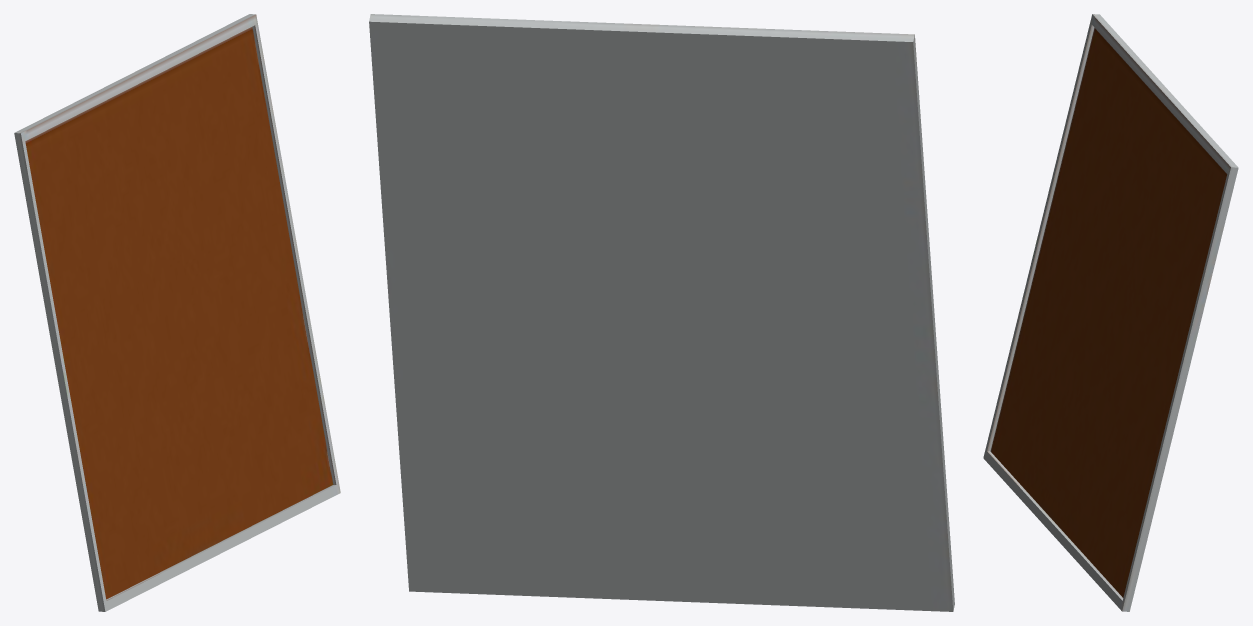
The model's file is board.fbx.
3 views of the same model, side by side, from view 1: azimuth 30°, elevation 25°; view 2: azimuth 150°, elevation 25°; view 3: azimuth 270°, elevation 25° (orthographic). The views are drawn at different scales.
Parts seen in each view (by area): view 1: defaultMaterial.014; view 2: defaultMaterial.014; view 3: defaultMaterial.014.
Part boxes in pixels (x1=…): defaultMaterial.014: x1=14, y1=14, x2=340, y2=611; defaultMaterial.014: x1=369, y1=14, x2=954, y2=611; defaultMaterial.014: x1=983, y1=14, x2=1238, y2=611.
Size of the model in its own units: 129 by 166 by 87.35.
Materials: 1 (1 with a texture image).
